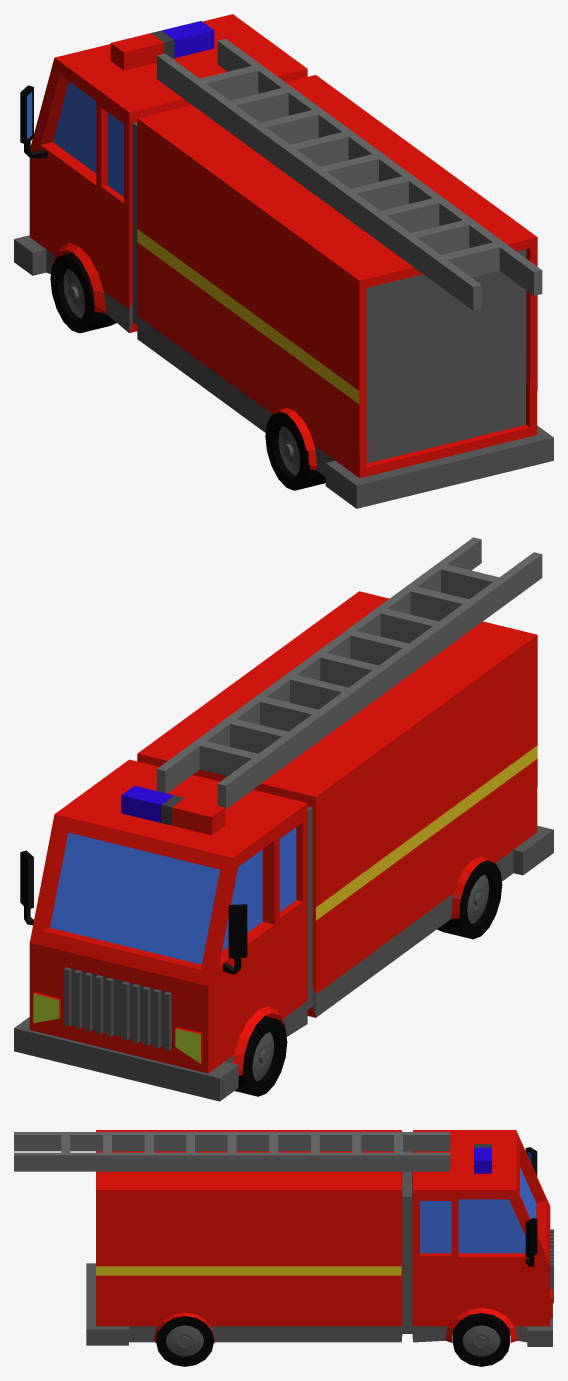
The model's file is vehicle_fireTruck.glb.
The picture shows the model from 3 angles, top to bottom: view 1: azimuth 30°, elevation 25°; view 2: azimuth 150°, elevation 25°; view 3: azimuth 270°, elevation 25°; orthographic projection. The views are drawn at different scales.
Visible parts, largest first — view 1: Firetruck; view 2: Firetruck; view 3: Firetruck.
Part boxes in pixels (left/top/right/bottom): Firetruck: left=14, top=14, right=553, bottom=508; Firetruck: left=14, top=537, right=553, bottom=1101; Firetruck: left=14, top=1130, right=553, bottom=1366.
Bounding box in the file's own units: 12 × 14 × 36.
